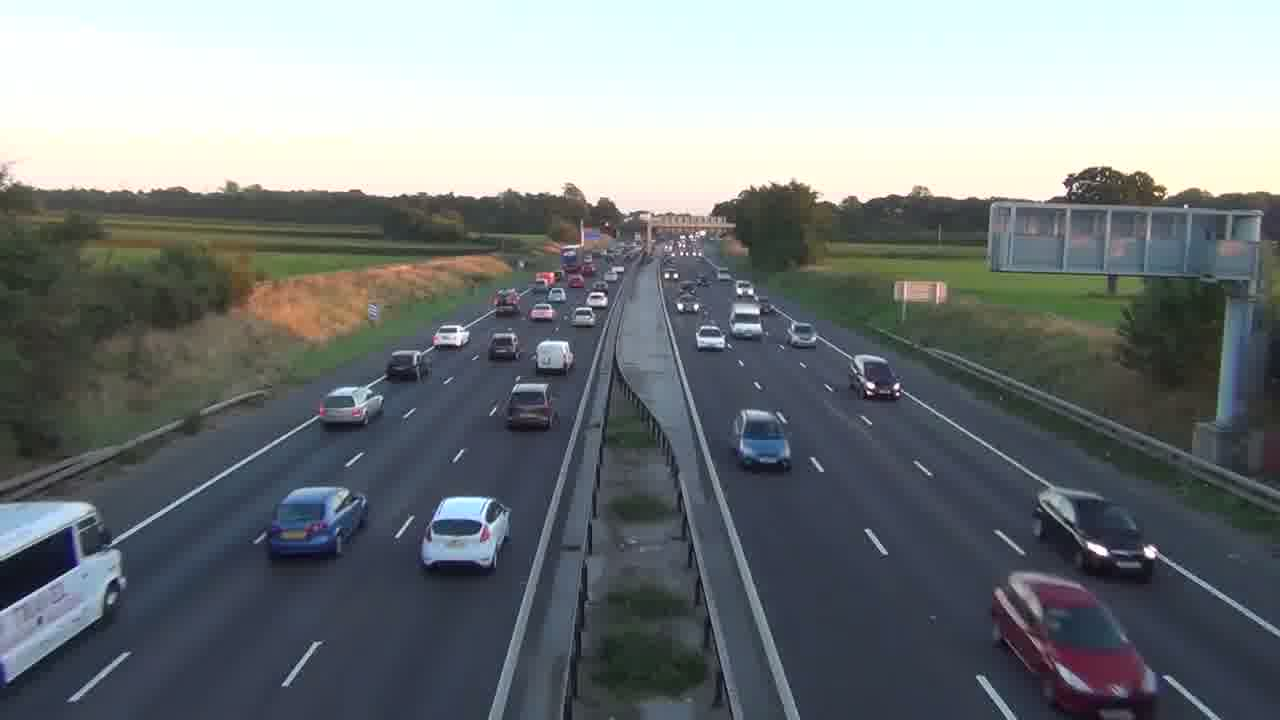bus: (0, 499, 128, 692)
car: (252, 485, 369, 558), (419, 495, 512, 575), (730, 407, 793, 472), (319, 384, 385, 427), (847, 352, 903, 401), (535, 338, 575, 376), (488, 330, 520, 362), (695, 323, 728, 351), (571, 306, 596, 327)
truck: (989, 569, 1158, 718), (1033, 486, 1159, 580)
